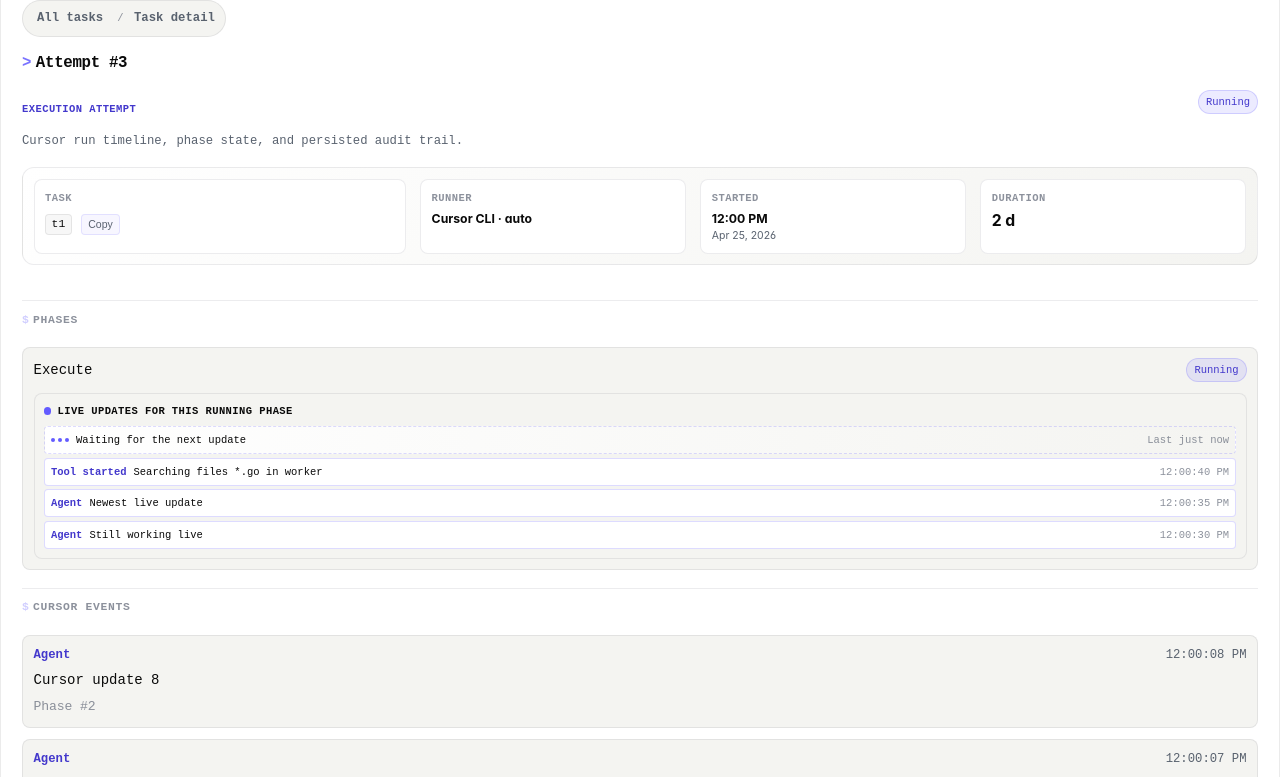
it: TaskCycleDetailPage › bounds stream and audit timelines behind load-more controls
Expected: the heading "Attempt #3" is shown, [36,54,127,72]
Expected: the text "Live updates for this running phase" is shown, [58,403,293,419]
Click the text "Cursor update 8" at {"x": 96, "y": 680}, box [34,672,160,688]
(page scrolled)
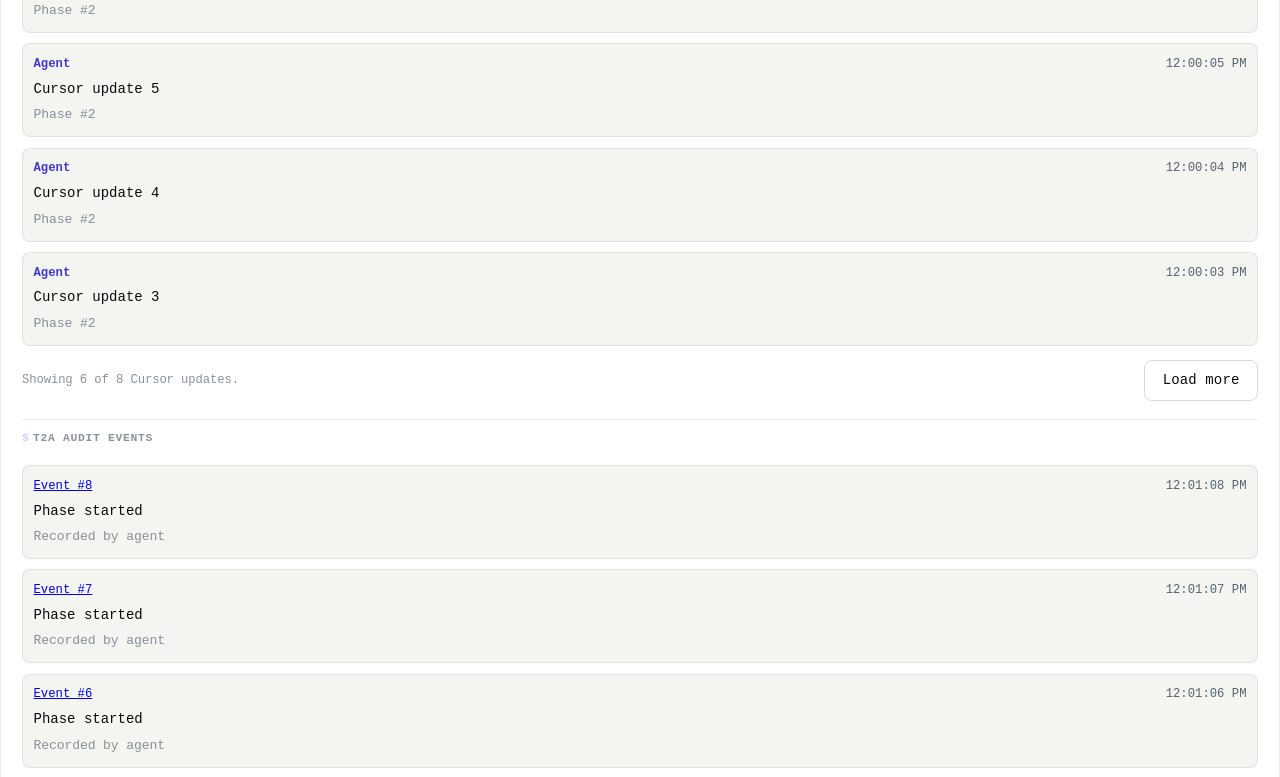
Click the button "Load more" at {"x": 1201, "y": 380}, box [1144,360,1258,401]
(page scrolled)
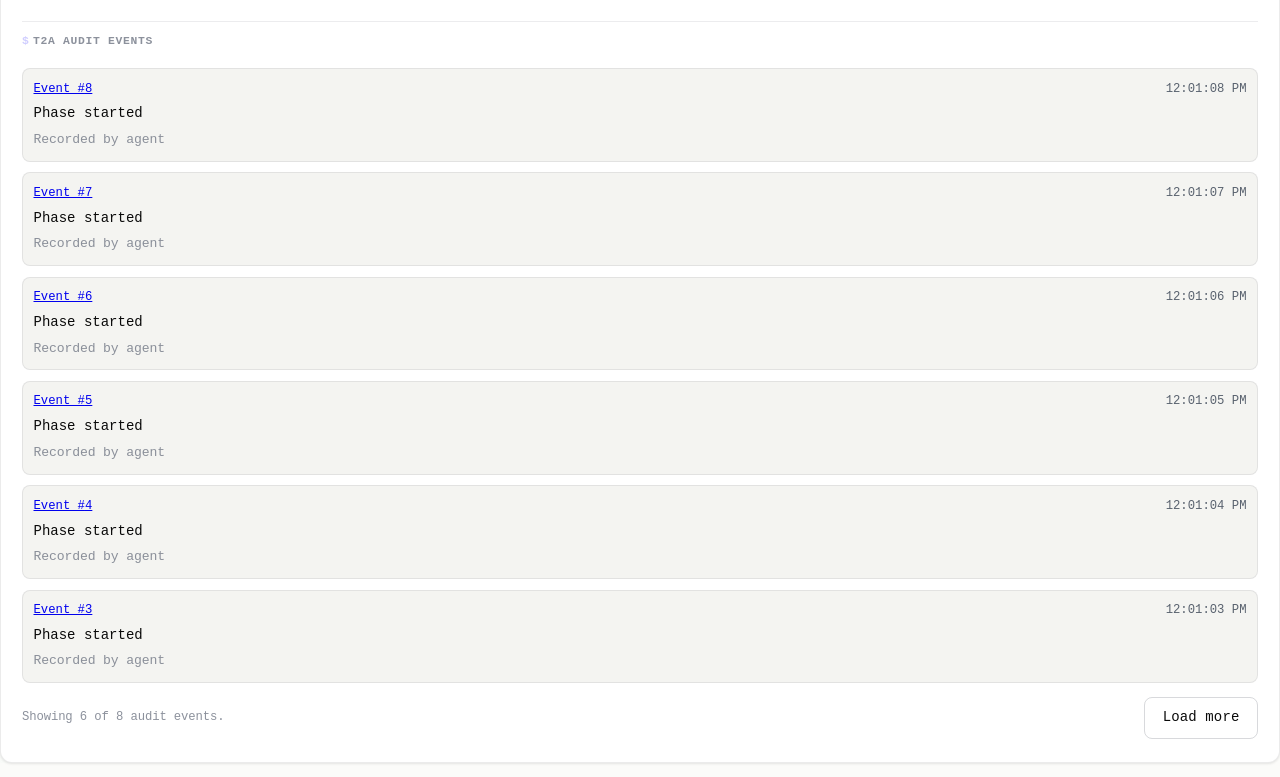
Expected: the link "Event #8" is shown, [34,80,92,98]
Expected: the text "Event #1" is not shown
Click the button "Load more" at {"x": 1201, "y": 718}, box [1144,697,1258,738]
(page scrolled)
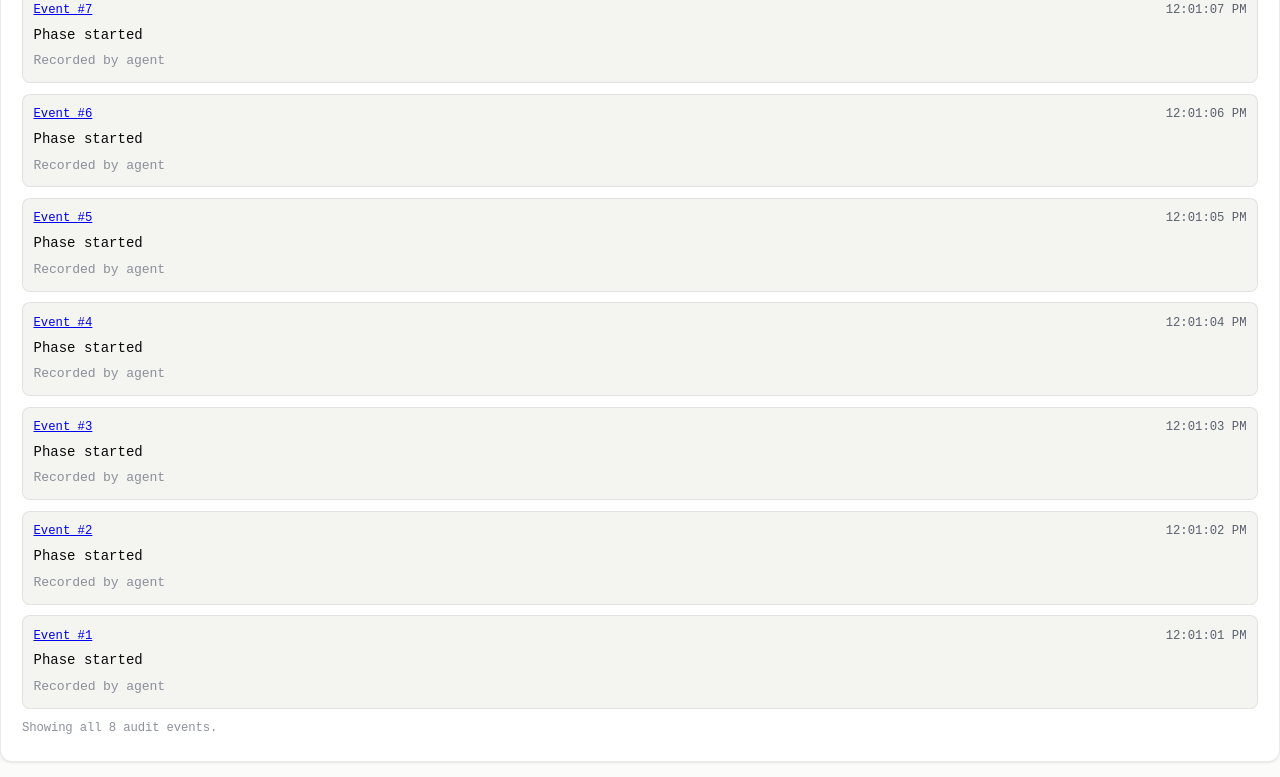
Result: the link "Event #1" is shown at [34,627,92,646]
